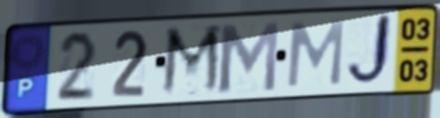2: (54, 29, 100, 104), (109, 28, 150, 99)
J: (343, 11, 396, 91)
M: (158, 22, 225, 100), (217, 19, 282, 95), (283, 18, 347, 90)
